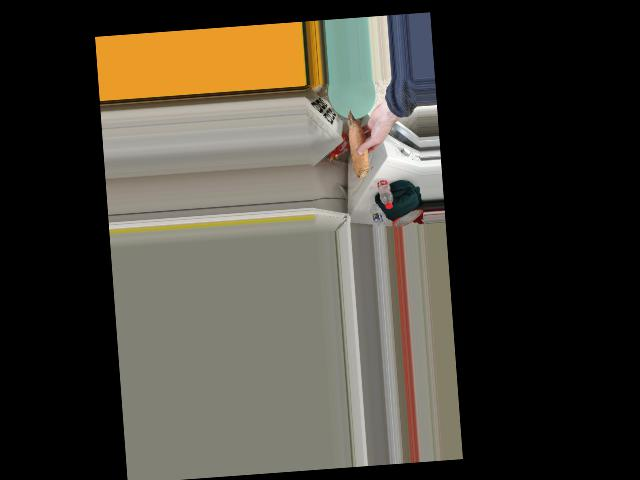sweet_potato: (347, 113, 372, 172)
